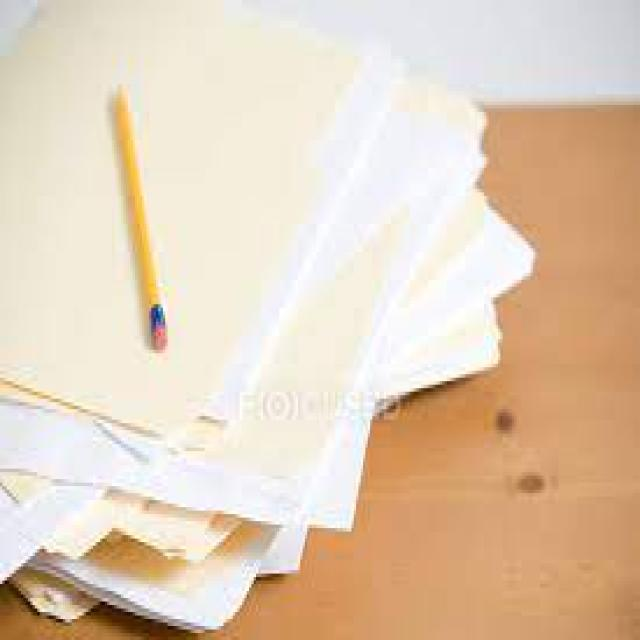pencil: (97, 58, 179, 360)
